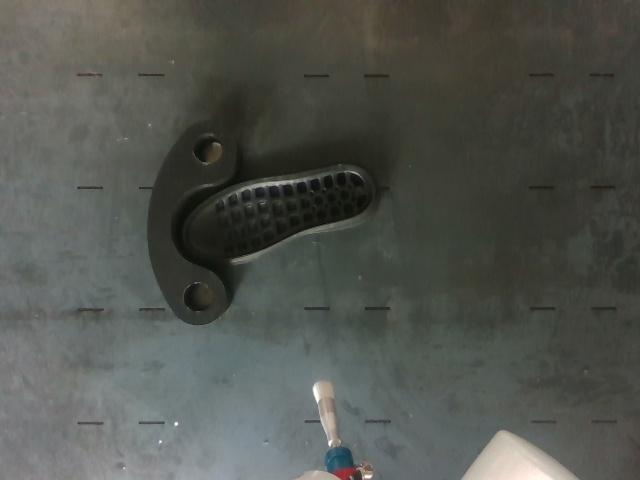shoes: (184, 168, 373, 260)
